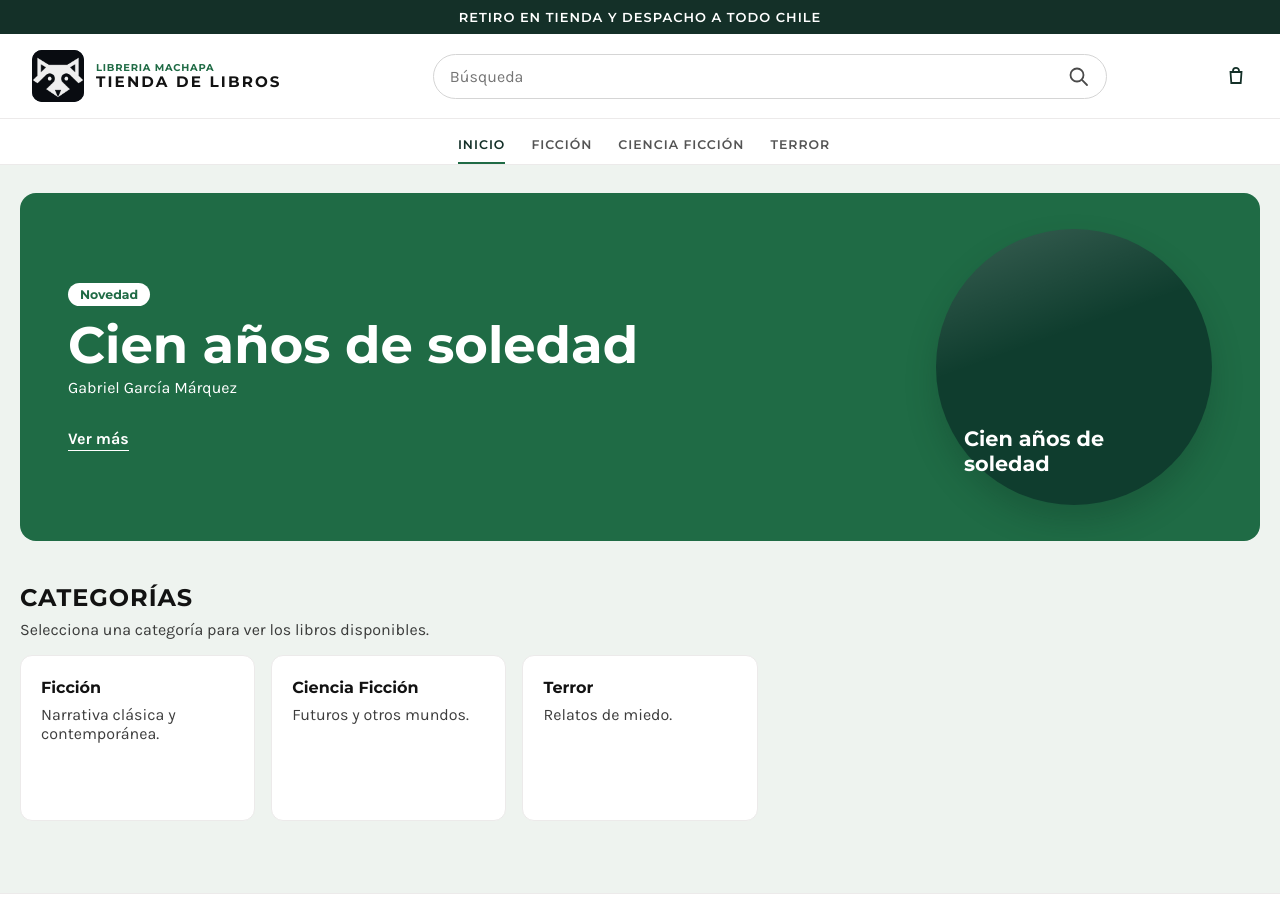
muestra los libros al elegir una categoría
Step 1. Click the link "Ciencia Ficción" → (681, 144), box x1=618 y1=137 x2=744 y2=152
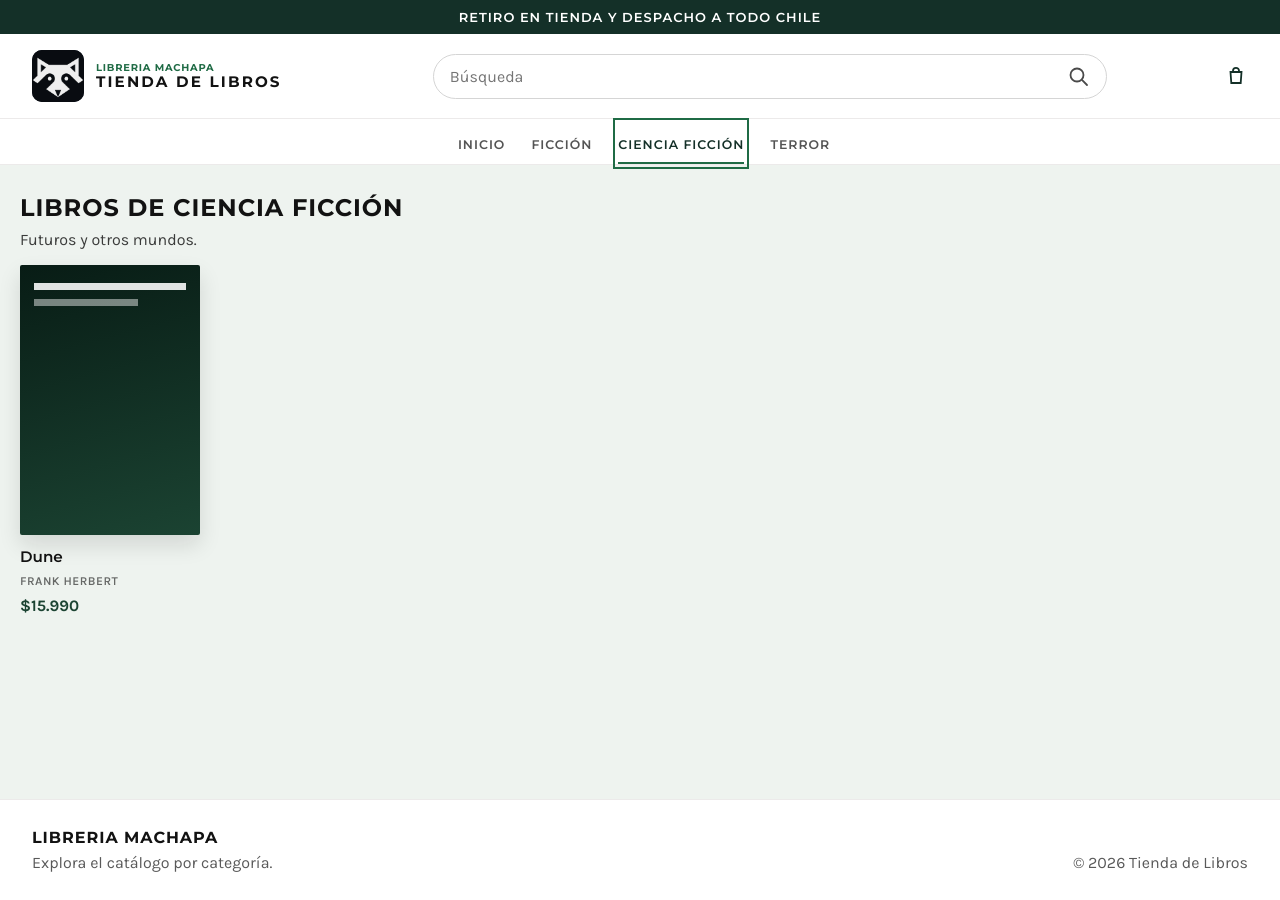
Result: the heading "Dune" is shown at x1=20 y1=547 x2=63 y2=566
Result: the text "Frank Herbert" is shown at x1=20 y1=574 x2=118 y2=588
Result: the text "$15.990" is shown at x1=20 y1=596 x2=79 y2=615
